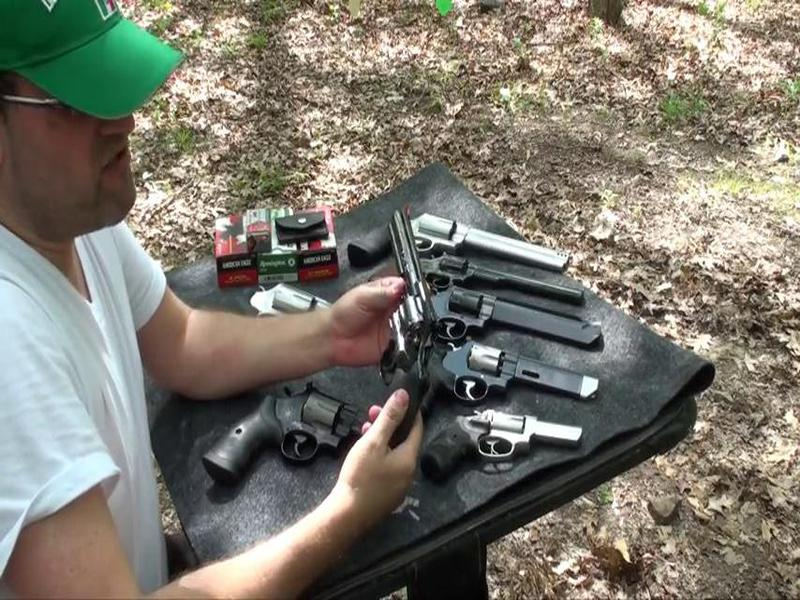Revolver: (348, 204, 468, 455)
